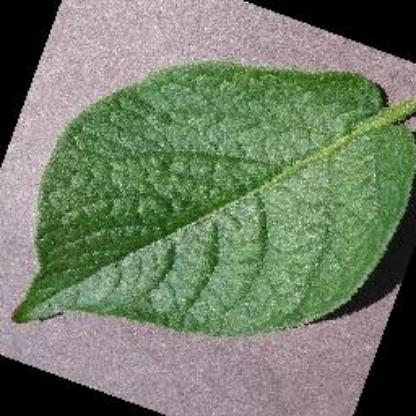Healthy-plant: (13, 59, 407, 335)
